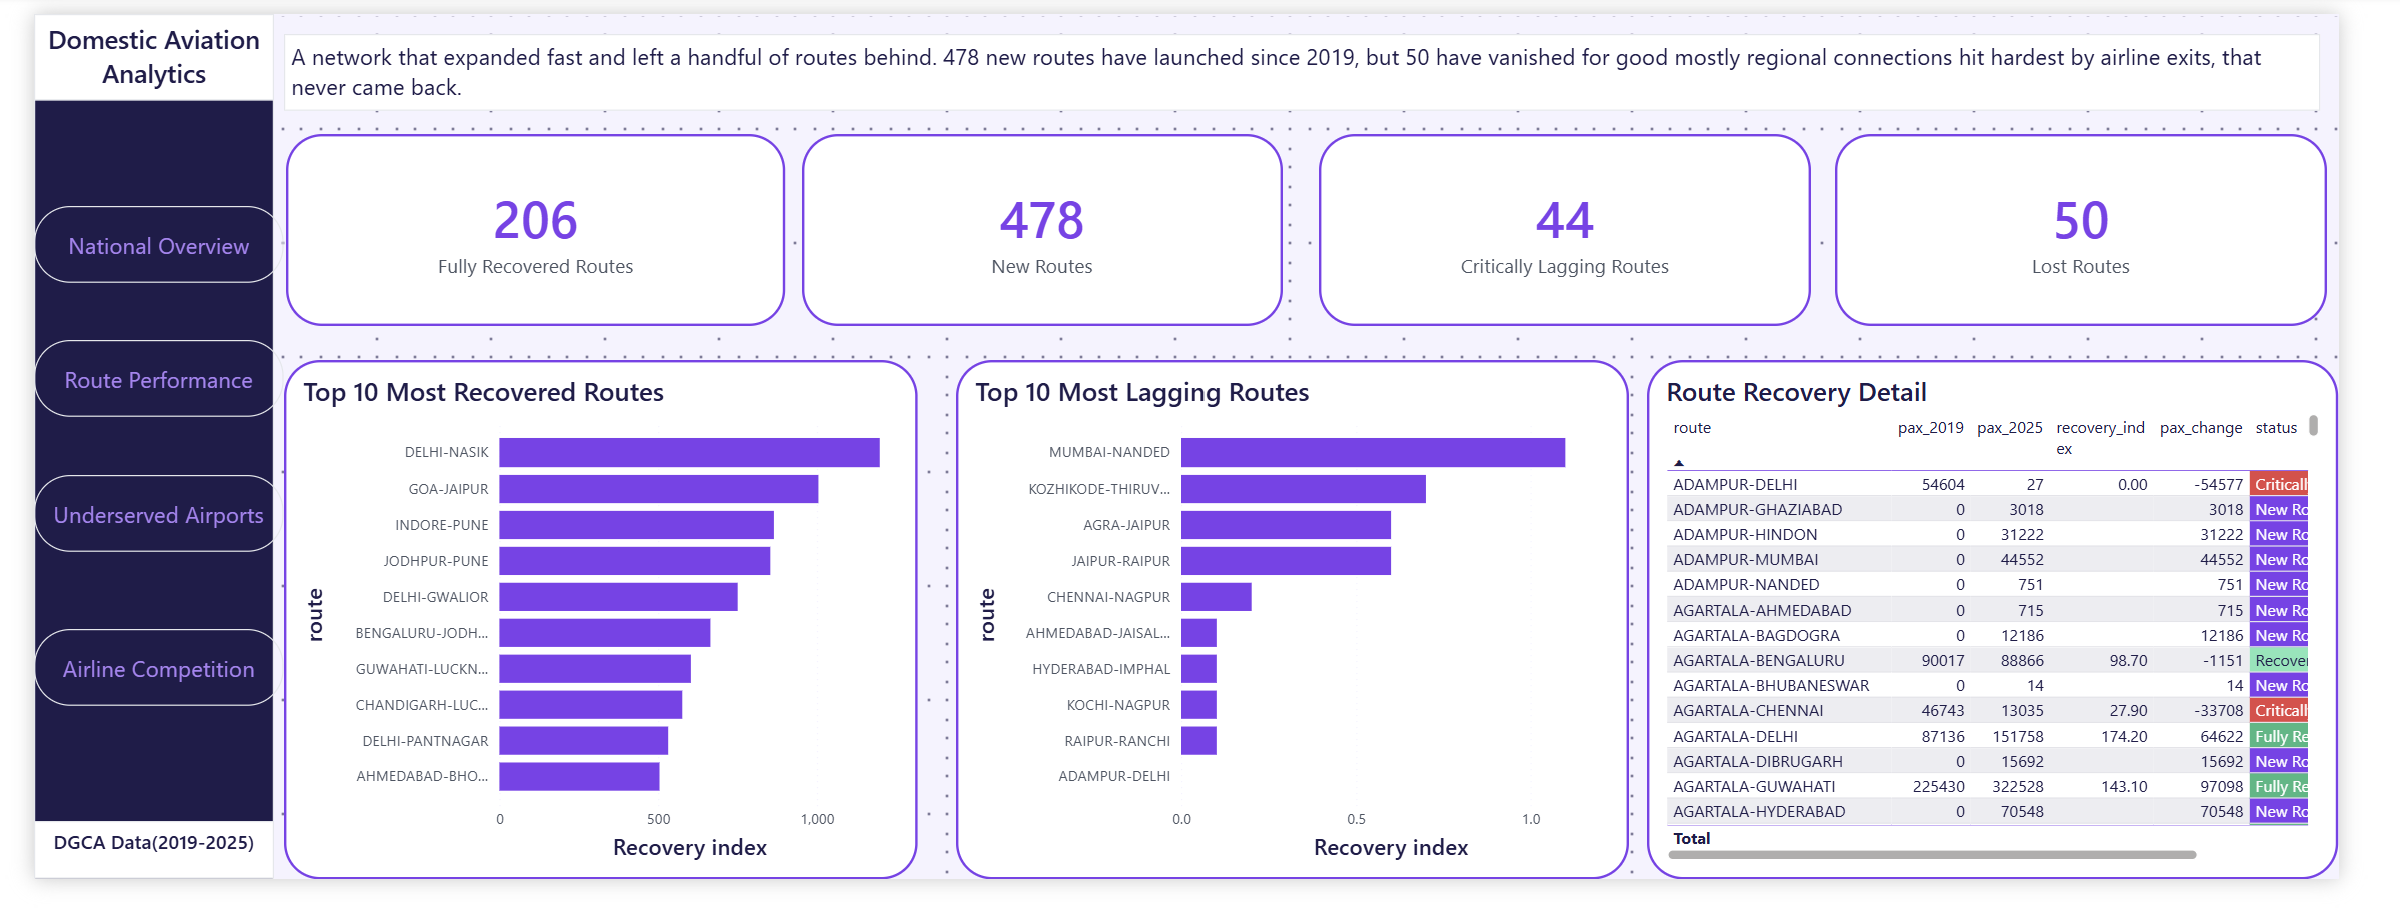

What the dashboard file says about the page in this screenshot:
{"tool":"powerbi","page":{"name":"Page 2","canvas":[1920,720],"ordinal":1},"visuals":[{"type":"shape","box":[0,0,200,768],"z":0},{"type":"actionButton","title":"Route Performance","box":[0,192,208,48],"z":1000},{"type":"actionButton","box":[0,0,208,48],"z":2000},{"type":"actionButton","title":"Route Performance","box":[0,432,208,48],"z":3000},{"type":"actionButton","title":"Route Performance","box":[0,672,208,48],"z":4000},{"type":"card","fields":{"Values":["covid_recovery.Fully Recovered Routes"]},"box":[256,0,176,160],"z":5000},{"type":"card","fields":{"Values":["covid_recovery.New Routes"]},"box":[496,0,176,160],"z":6000},{"type":"card","fields":{"Values":["covid_recovery.Lost Routes"]},"box":[784,0,176,160],"z":7000},{"type":"card","fields":{"Values":["covid_recovery.Critically Lagging Routes"]},"box":[1088,0,176,160],"z":8000},{"type":"clusteredBarChart","title":"Top 10 Most Recovered Routes","fields":{"Category":["covid_recovery.route"],"Y":["covid_recovery.Recovery Index (measure)"]},"box":[208,176,512,368],"z":9000},{"type":"clusteredBarChart","title":"Top 10 Most Lagging Routes","fields":{"Category":["covid_recovery.route"],"Y":["covid_recovery.Recovery Index (measure)"]},"box":[768,176,496,368],"z":10000},{"type":"tableEx","fields":{"Values":["covid_recovery.route","covid_recovery.pax_2019","covid_recovery.pax_2025","covid_recovery.recovery_index","covid_recovery.pax_change","covid_recovery.status"]},"box":[1312,192,576,384],"z":11000},{"type":"actionButton","box":[0,0,100,40],"z":12000}]}

Visuals, with their boxes in screenshot pixels (x1, y1, x2, y2), scaled from the page's 1920x720 canvas onto the 2400x920 screenshot:
shape: [0, 0, 250, 919]
"Route Performance" actionButton: [0, 245, 260, 307]
actionButton: [0, 0, 260, 61]
"Route Performance" actionButton: [0, 552, 260, 613]
"Route Performance" actionButton: [0, 859, 260, 919]
card - covid_recovery.Fully Recovered Routes: [320, 0, 540, 204]
card - covid_recovery.New Routes: [620, 0, 840, 204]
card - covid_recovery.Lost Routes: [980, 0, 1200, 204]
card - covid_recovery.Critically Lagging Routes: [1360, 0, 1580, 204]
"Top 10 Most Recovered Routes" clusteredBarChart: [260, 225, 900, 695]
"Top 10 Most Lagging Routes" clusteredBarChart: [960, 225, 1580, 695]
tableEx - covid_recovery.route x covid_recovery.pax_2019: [1640, 245, 2360, 736]
actionButton: [0, 0, 125, 51]
